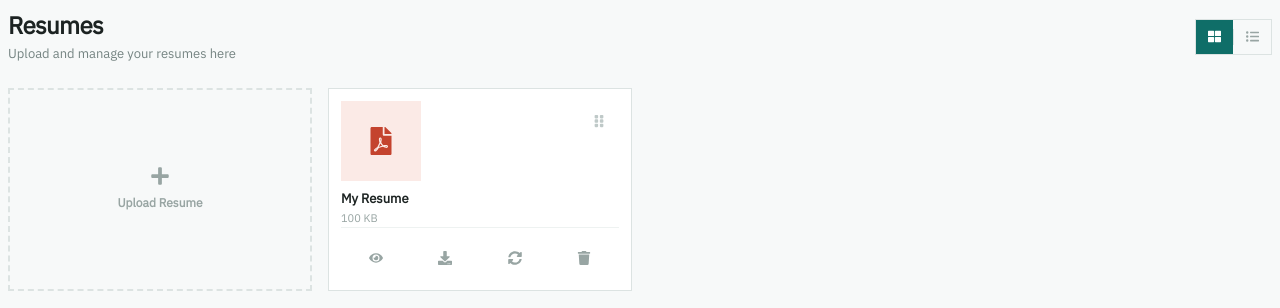
ResumeView › view mode toggle › switches to the table when List View is clicked
Check: the button "My Resume" is shown, box [341, 188, 619, 208]
Click the button titled "List View": [1252, 37] box [1234, 20, 1271, 54]
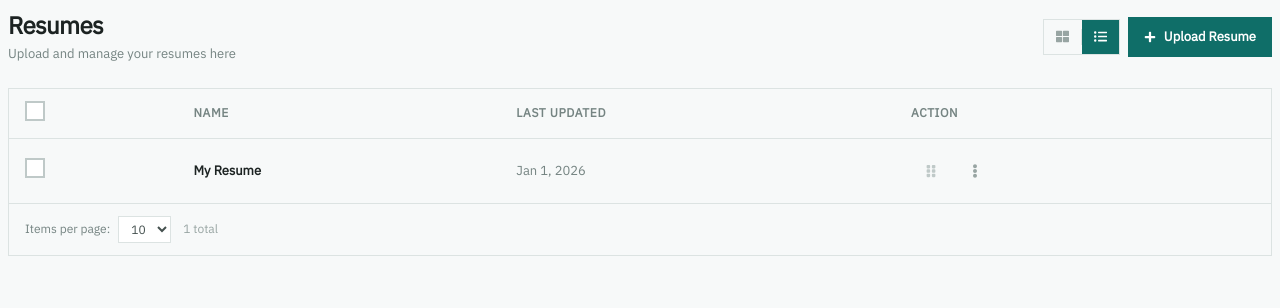
Check: the column heading "Name" is shown, box [178, 88, 500, 138]
